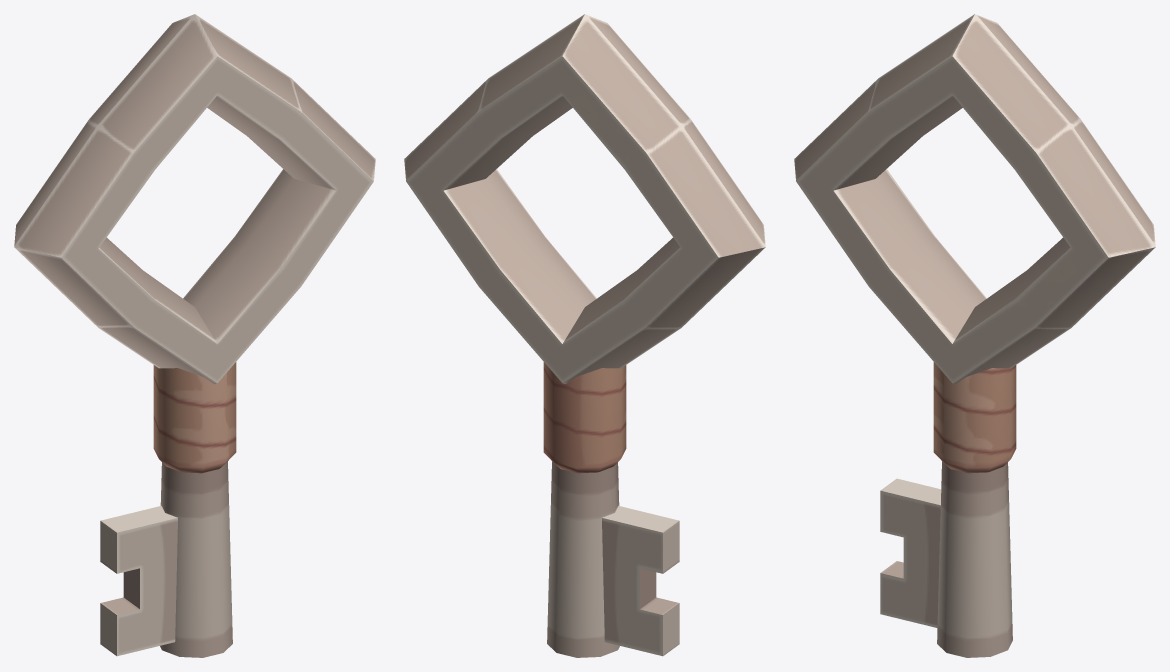
Rendered from regularKey_MESH.fbx.
The picture shows the model from 3 angles, left to right: view 1: azimuth 30°, elevation 25°; view 2: azimuth 150°, elevation 25°; view 3: azimuth 330°, elevation 25°; orthographic projection.
Parts seen in each view (by area): view 1: regularKey_MESH; view 2: regularKey_MESH; view 3: regularKey_MESH.
Part boxes in pixels (x1,y1,x2,y2): regularKey_MESH: (14, 14, 375, 657); regularKey_MESH: (404, 14, 765, 657); regularKey_MESH: (794, 14, 1155, 657).
Size of the model in its own units: 5.93 by 9.85 by 1.28.
